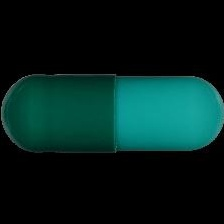10544-295: (0, 0, 224, 224)
